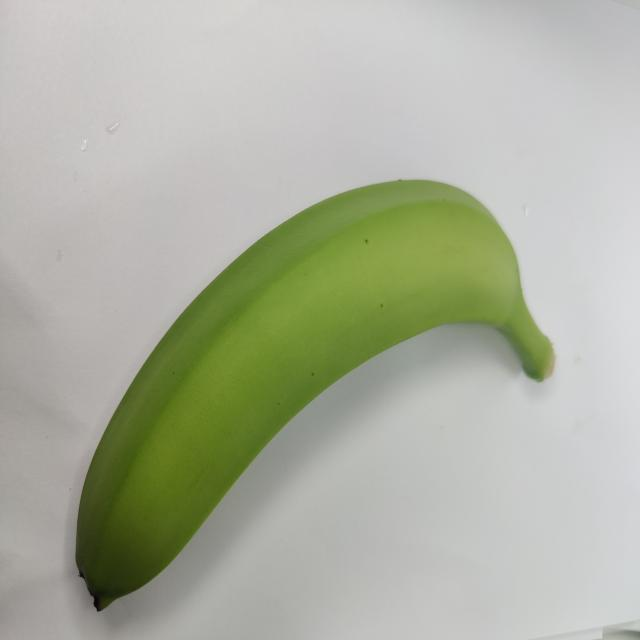raw: (55, 136, 569, 619)
